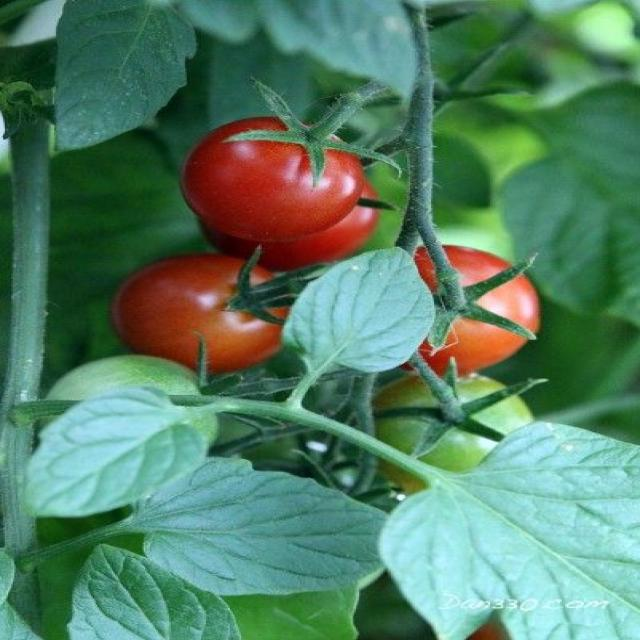level 5: (361, 239, 545, 372), (108, 250, 294, 368)
level 6: (190, 116, 355, 239), (217, 165, 381, 262)
